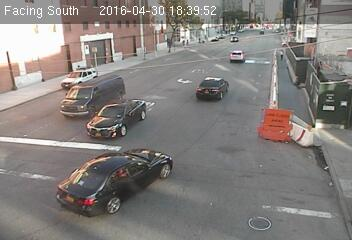neg: (84, 143, 132, 208), (196, 67, 229, 110), (261, 107, 291, 148), (311, 163, 333, 192), (325, 123, 342, 146), (274, 45, 290, 67), (29, 68, 45, 90), (162, 34, 177, 54), (76, 59, 90, 78), (234, 46, 248, 65), (258, 20, 270, 36), (135, 44, 145, 58)
